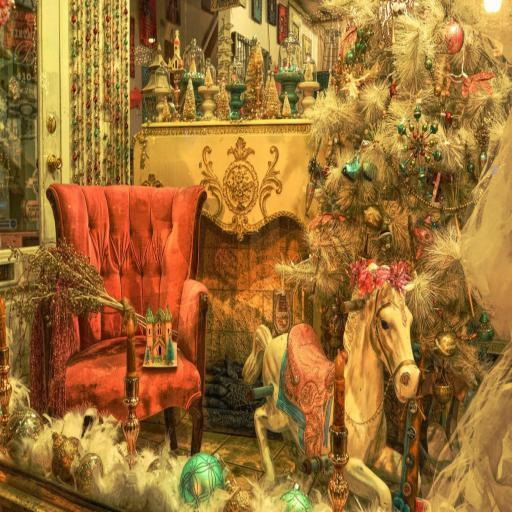horse: (240, 264, 421, 512)
